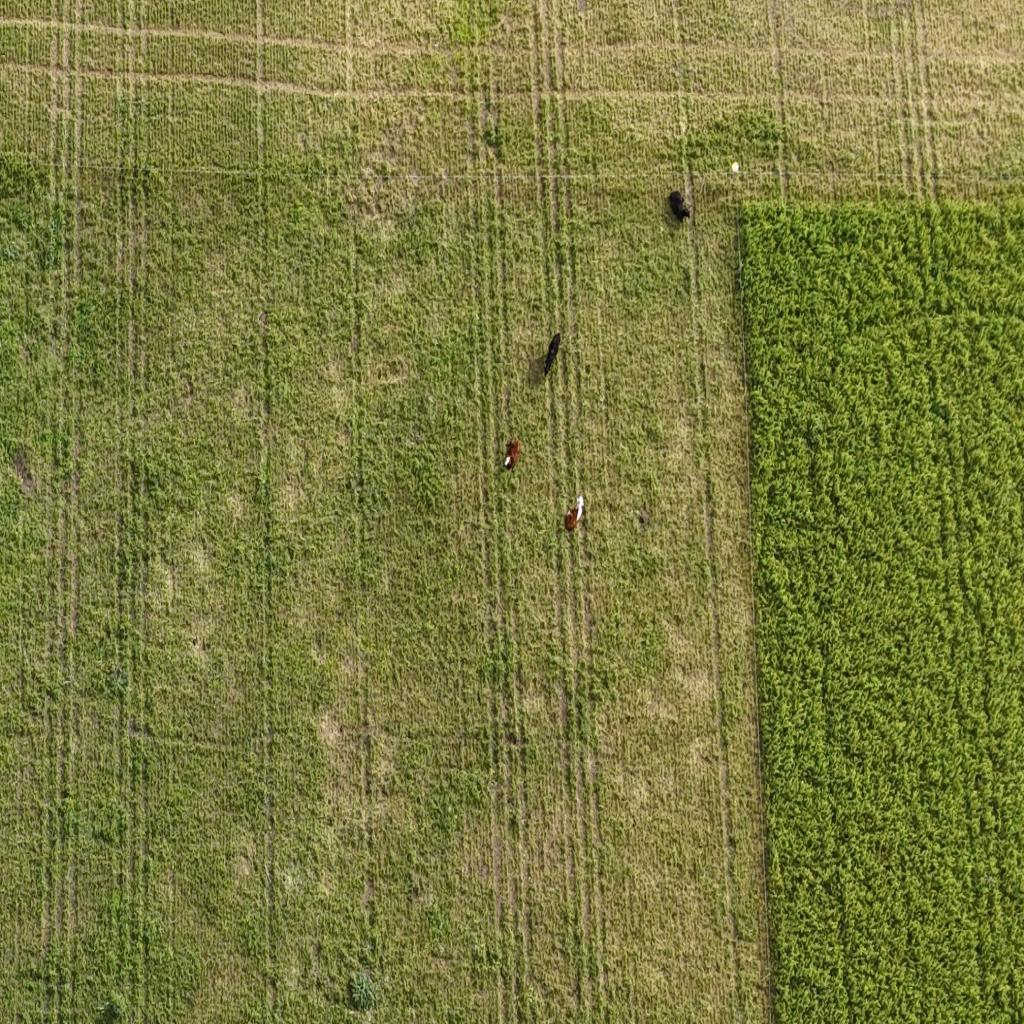cow: (668, 187, 693, 228), (543, 330, 563, 379), (563, 492, 585, 532), (502, 437, 522, 474)
